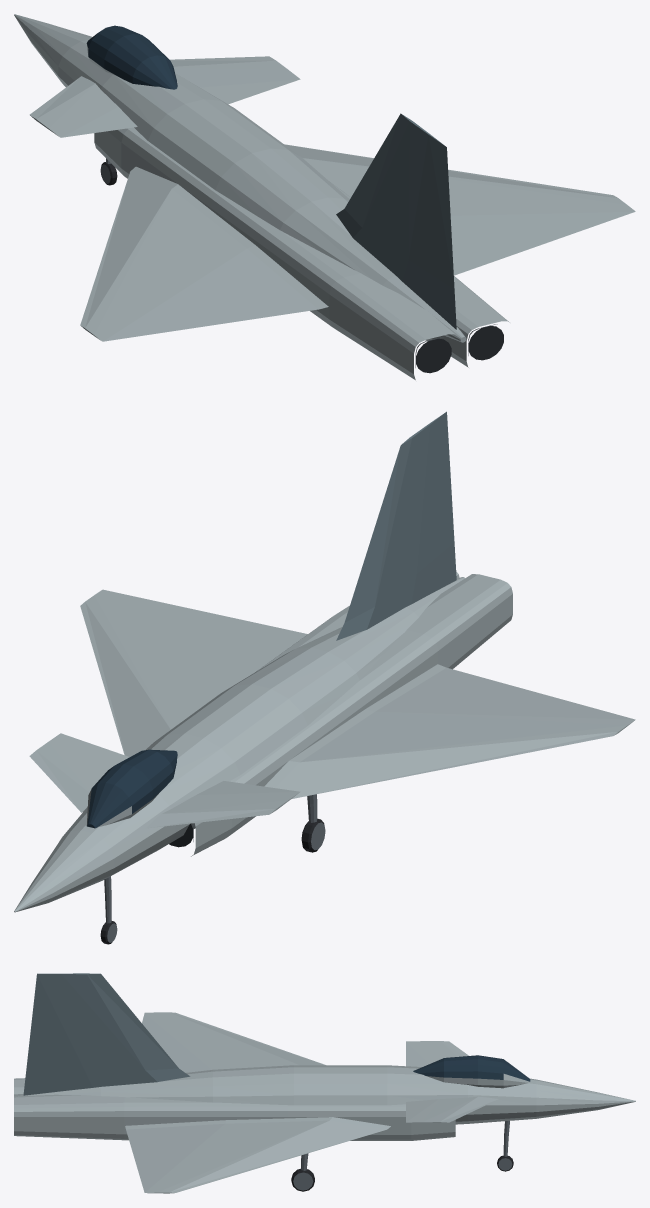
File: typhoon.glb
3 renders of one model, top to bottom at view 1: azimuth 30°, elevation 25°; view 2: azimuth 150°, elevation 25°; view 3: azimuth 270°, elevation 25°, orthographic. The views are drawn at different scales.
Visible parts, largest first — view 1: airframe; view 2: airframe, gear; view 3: airframe, gear.
Boxes of the visible parts, x1,y1,x2,y2 form: airframe: (14,14,635,380); airframe: (14,411,635,912); gear: (100,794,325,944); airframe: (14,973,635,1193); gear: (291,1121,513,1191).
Bounding box in the file's own units: 10.95 × 5.58 × 15.96.
